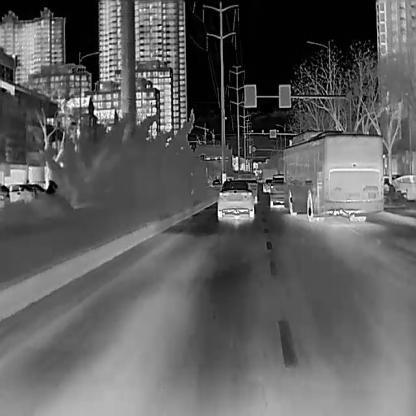car: (282, 130, 382, 222), (216, 180, 253, 218), (383, 174, 414, 198), (235, 173, 257, 203), (7, 184, 37, 204), (269, 174, 285, 206), (28, 183, 47, 195), (261, 179, 273, 192), (212, 178, 220, 189)
